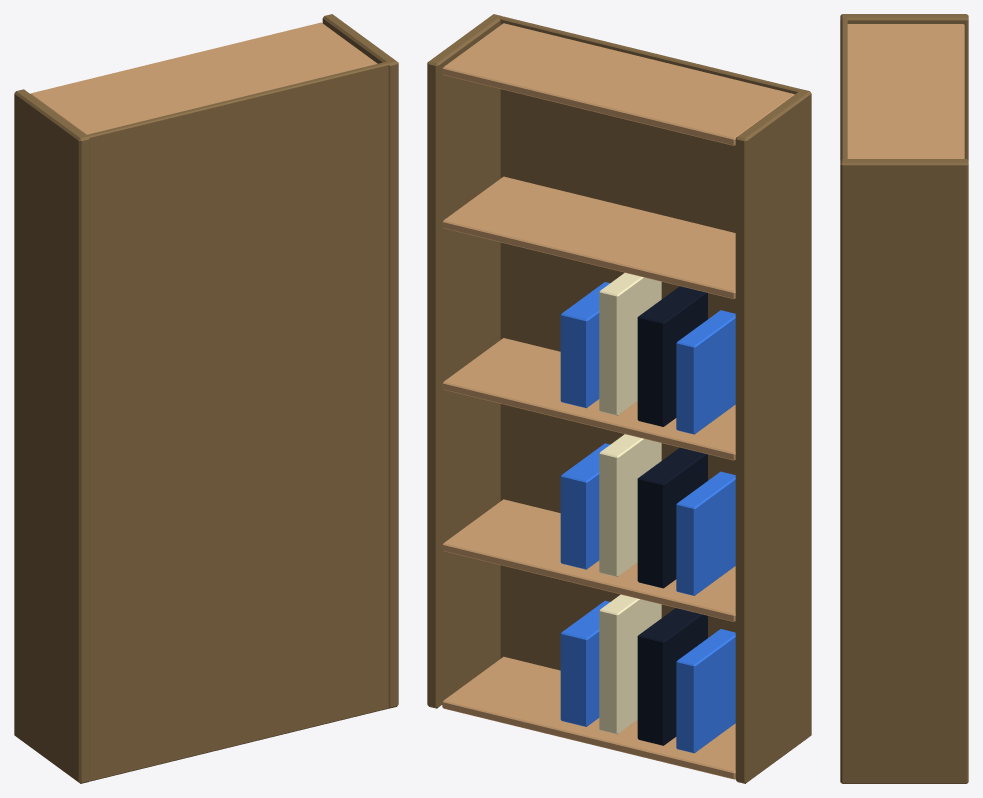
The model's file is bookshelf.glb.
3 renders of one model, left to right at view 1: azimuth 30°, elevation 25°; view 2: azimuth 150°, elevation 25°; view 3: azimuth 270°, elevation 25°, orthographic. The views are drawn at different scales.
Visible parts, largest first — view 1: Bookshelf; view 2: Bookshelf; view 3: Bookshelf.
Part boxes in pixels (x1=…): Bookshelf: x1=14, y1=14, x2=398, y2=783; Bookshelf: x1=427, y1=14, x2=811, y2=783; Bookshelf: x1=840, y1=14, x2=968, y2=783.
Size of the model in its own units: 0.83 by 1.6 by 0.3.
